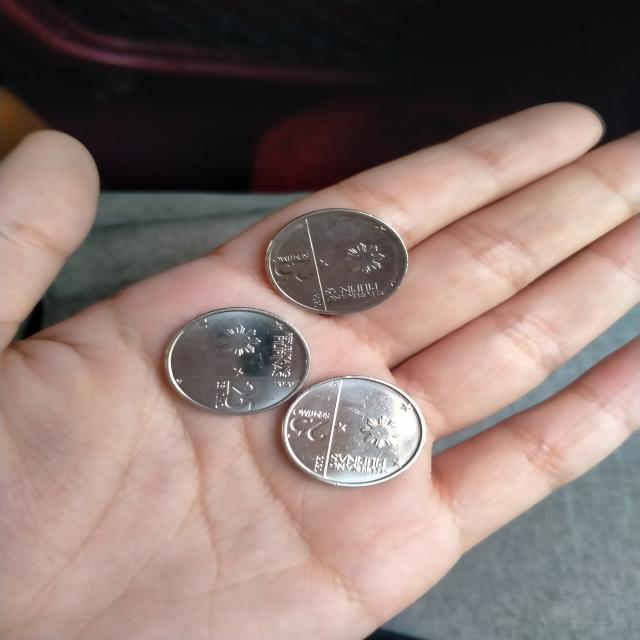25Cent_New_Front: (266, 246, 322, 292), (287, 400, 335, 448), (208, 378, 270, 415)
